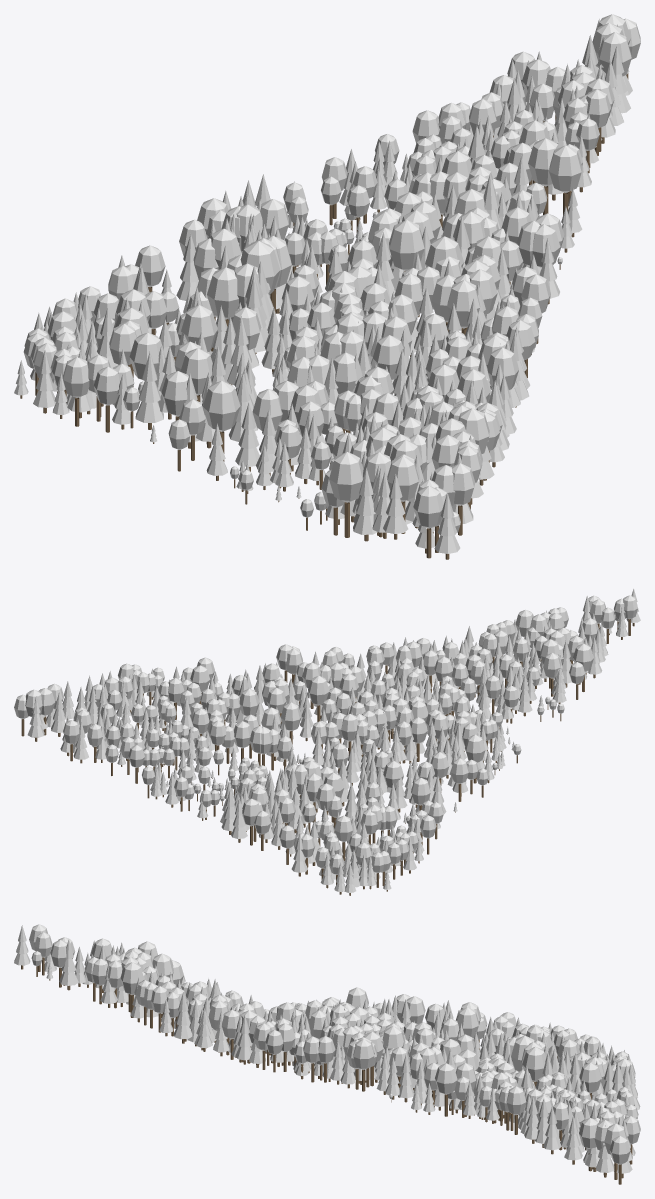
File: stromy.glb
3 views of the same model, one above another, from view 1: azimuth 30°, elevation 25°; view 2: azimuth 150°, elevation 25°; view 3: azimuth 270°, elevation 25° (orthographic). The views are drawn at different scales.
Visible parts, largest first — view 1: Stromy_Listnate_06_05, Stromy_Ihlicnate_06_05; view 2: Stromy_Listnate_06_05, Stromy_Ihlicnate_06_05; view 3: Stromy_Listnate_06_05, Stromy_Ihlicnate_06_05.
Part boxes in pixels (box(x1,y1,x2,y2)): Stromy_Listnate_06_05: box(23, 14, 640, 558); Stromy_Ihlicnate_06_05: box(14, 19, 632, 559); Stromy_Listnate_06_05: box(14, 595, 637, 887); Stromy_Ihlicnate_06_05: box(27, 588, 640, 895); Stromy_Listnate_06_05: box(29, 924, 640, 1184); Stromy_Ihlicnate_06_05: box(14, 925, 640, 1178).
Bounding box in the file's own units: 240 × 80.98 × 296.
